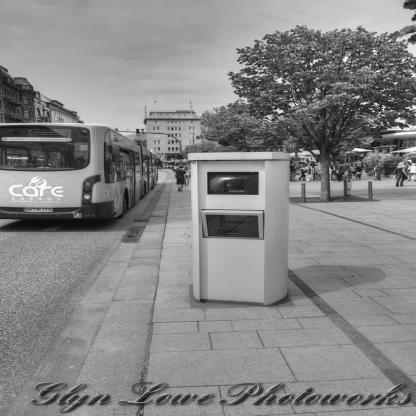bus: (7, 103, 164, 240)
